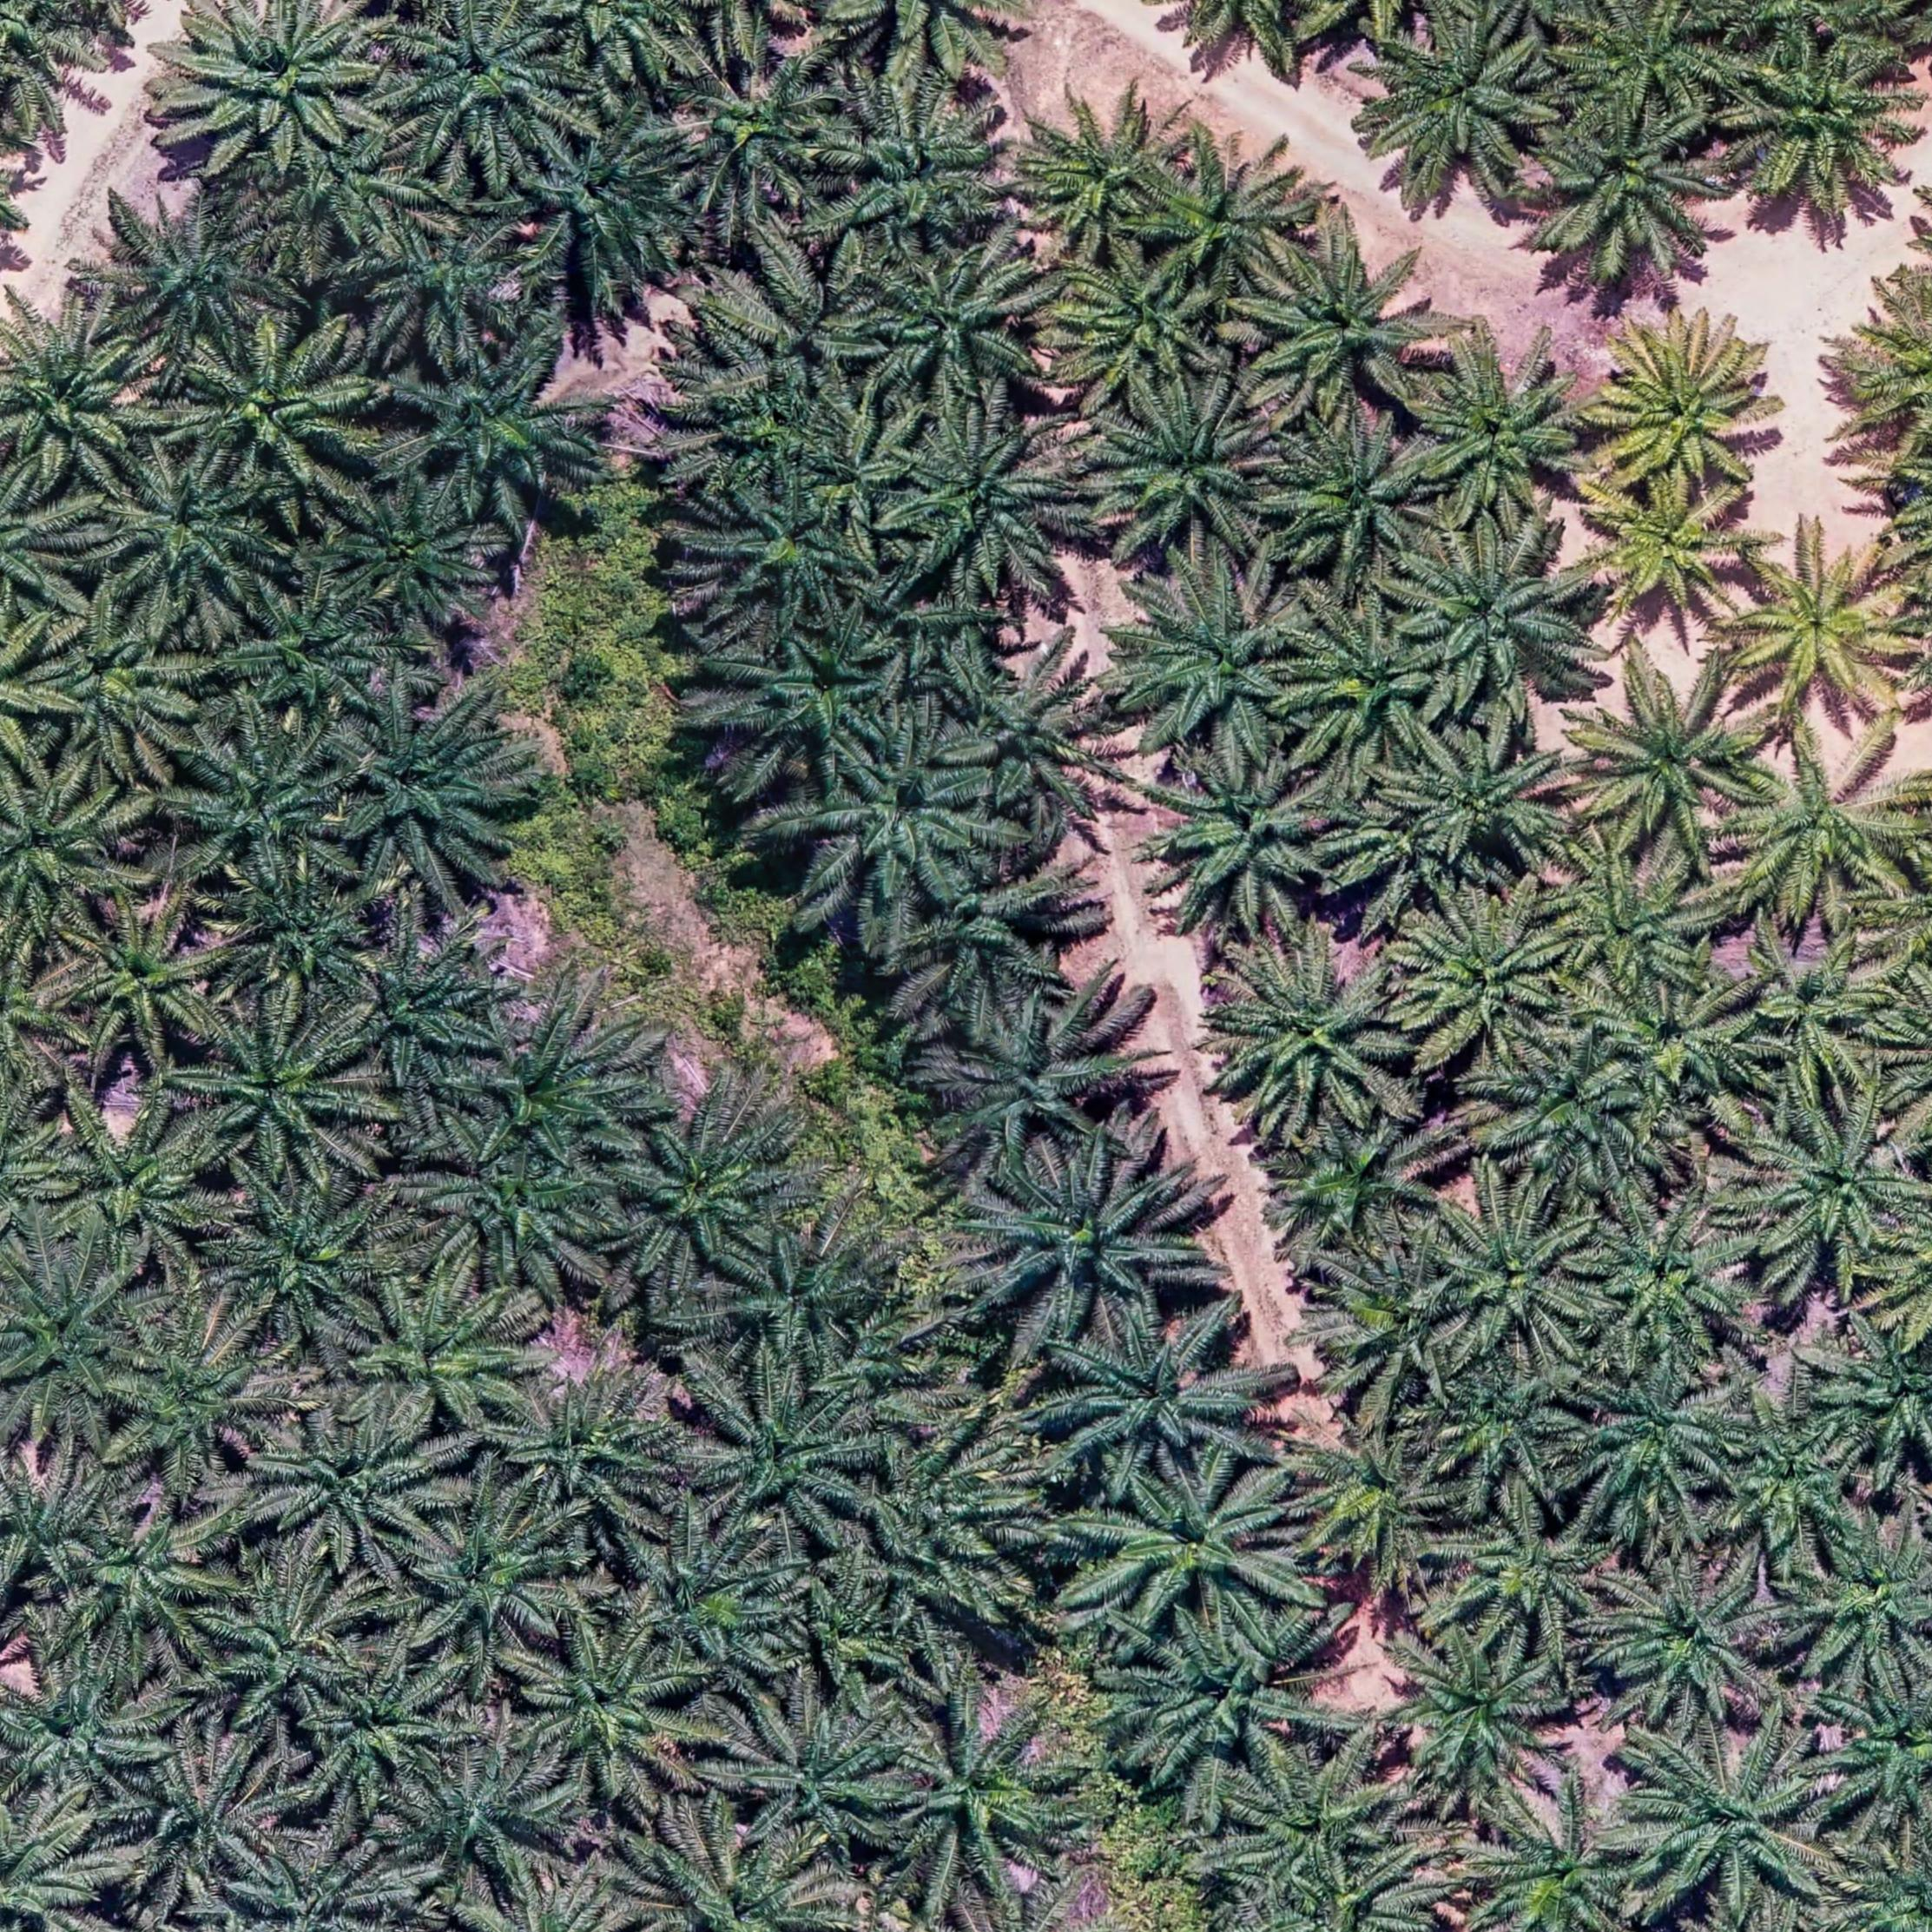palmtree: (962, 1148, 1200, 1348), (1102, 1612, 1338, 1801), (791, 724, 1003, 922), (1622, 1729, 1840, 1920), (1205, 938, 1414, 1136), (1106, 563, 1315, 759), (1520, 99, 1730, 290), (333, 686, 531, 886), (1249, 230, 1453, 425), (881, 1700, 1085, 1893), (1352, 14, 1560, 202), (1573, 662, 1773, 856), (1083, 375, 1290, 563), (1145, 747, 1346, 938), (1044, 1311, 1261, 1486), (1086, 1460, 1297, 1640), (1721, 736, 1921, 925), (403, 338, 612, 518), (1727, 533, 1920, 727), (881, 412, 1079, 600), (409, 1122, 623, 1293), (179, 2, 386, 175), (1585, 313, 1778, 499), (1725, 34, 1920, 218), (179, 322, 377, 501), (814, 85, 1014, 262), (1399, 533, 1592, 715), (690, 226, 886, 405), (1384, 1628, 1578, 1806), (1408, 343, 1598, 525), (508, 117, 697, 299), (934, 994, 1127, 1173), (724, 1693, 922, 1867), (614, 1106, 805, 1284), (518, 1626, 709, 1805), (1739, 1090, 1923, 1274), (94, 448, 287, 623), (856, 244, 1051, 418), (1596, 1552, 1792, 1723), (938, 644, 1122, 826), (667, 39, 853, 218), (251, 1407, 449, 1573), (1571, 1198, 1753, 1378), (1392, 895, 1578, 1072), (1532, 835, 1721, 1007), (387, 5, 580, 173), (104, 1741, 301, 1905), (1424, 1189, 1605, 1368), (32, 591, 207, 775), (690, 1378, 878, 1548), (165, 727, 354, 895), (1283, 1412, 1465, 1585), (193, 1005, 377, 1177), (1007, 88, 1191, 260), (1578, 472, 1764, 640), (212, 1177, 398, 1345), (1387, 724, 1578, 886), (490, 1369, 678, 1534), (405, 1500, 586, 1670), (41, 1100, 221, 1270), (1562, 1355, 1744, 1523), (1263, 425, 1445, 593), (1479, 1030, 1658, 1200), (345, 1279, 534, 1438), (1283, 600, 1456, 773), (1053, 246, 1237, 409), (1223, 1750, 1412, 1907), (724, 625, 904, 789), (849, 1491, 1037, 1649), (0, 306, 156, 495), (623, 1520, 805, 1681), (467, 1005, 642, 1171), (904, 842, 1072, 1014), (389, 1746, 575, 1900), (113, 1318, 288, 1481), (1442, 1493, 1621, 1651), (207, 1566, 377, 1730), (715, 1224, 897, 1376), (702, 476, 878, 633), (0, 1258, 152, 1437), (1460, 1794, 1656, 1932), (1709, 1398, 1874, 1562), (64, 1504, 232, 1665), (1134, 142, 1307, 297), (1274, 1109, 1451, 1261), (60, 901, 228, 1060), (361, 216, 538, 366), (331, 474, 499, 632), (117, 205, 287, 359), (347, 927, 511, 1085), (1787, 1516, 1932, 1693), (626, 1821, 856, 1932), (5, 1656, 172, 1806), (1732, 920, 1904, 1065), (679, 359, 851, 501), (1555, 0, 1743, 129), (297, 1658, 460, 1806), (234, 580, 396, 729), (219, 869, 387, 1010), (1428, 1355, 1594, 1497), (0, 763, 133, 939), (1315, 1253, 1465, 1407), (272, 124, 426, 258), (223, 1835, 419, 1932), (1819, 1667, 1932, 1833), (1819, 1316, 1932, 1476), (0, 1458, 111, 1596), (531, 0, 709, 83), (0, 0, 87, 131)
